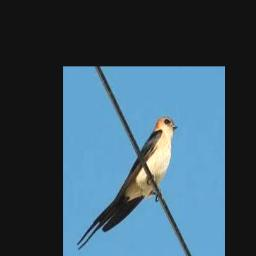Swallow: (76, 116, 178, 251)
